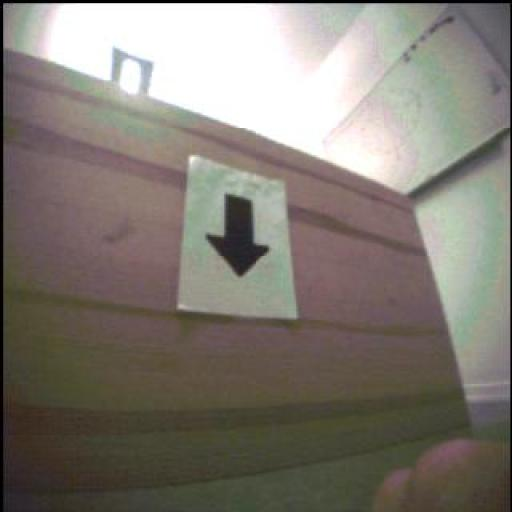arrow: (207, 196, 270, 278)
